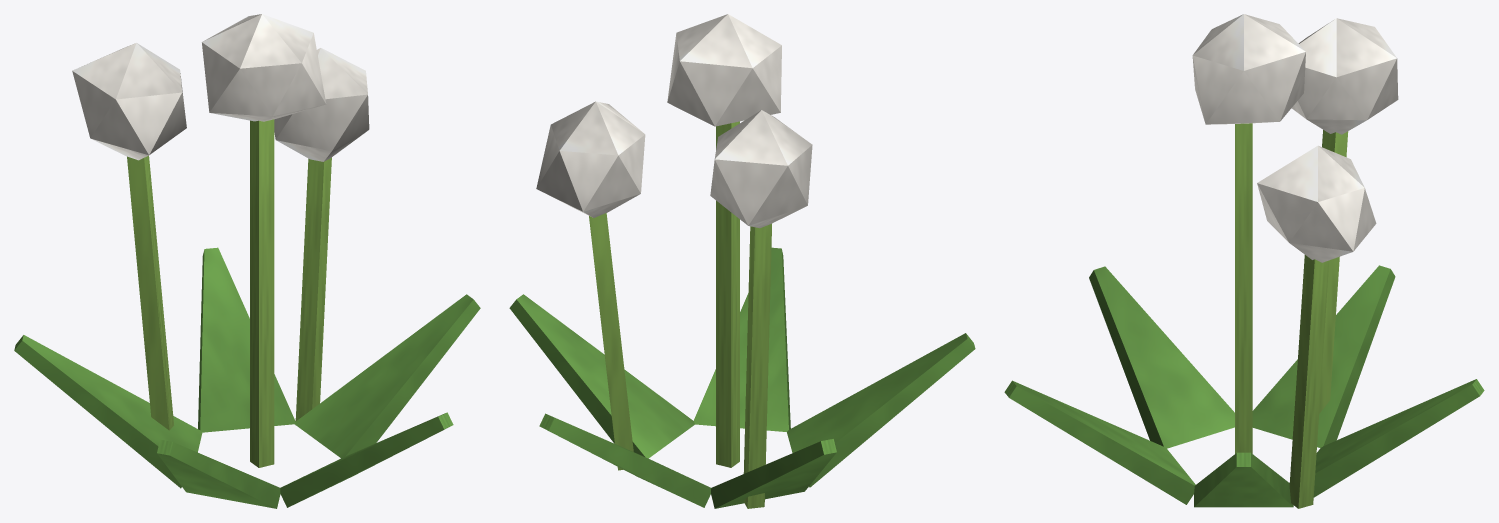
The model's file is flowers_dandelion_01.glb.
3 views of the same model, side by side, from view 1: azimuth 30°, elevation 25°; view 2: azimuth 150°, elevation 25°; view 3: azimuth 270°, elevation 25° (orthographic).
Parts seen in each view (by area): view 1: flowers_dandelion_01; view 2: flowers_dandelion_01; view 3: flowers_dandelion_01.
Boxes of the visible parts, x1,y1,x2,y2 form: flowers_dandelion_01: [14, 14, 480, 508]; flowers_dandelion_01: [509, 14, 975, 508]; flowers_dandelion_01: [1004, 14, 1484, 508].
Bounding box in the file's own units: 0.643 × 0.7134 × 0.6737.
Materials: 1 (1 with a texture image).
